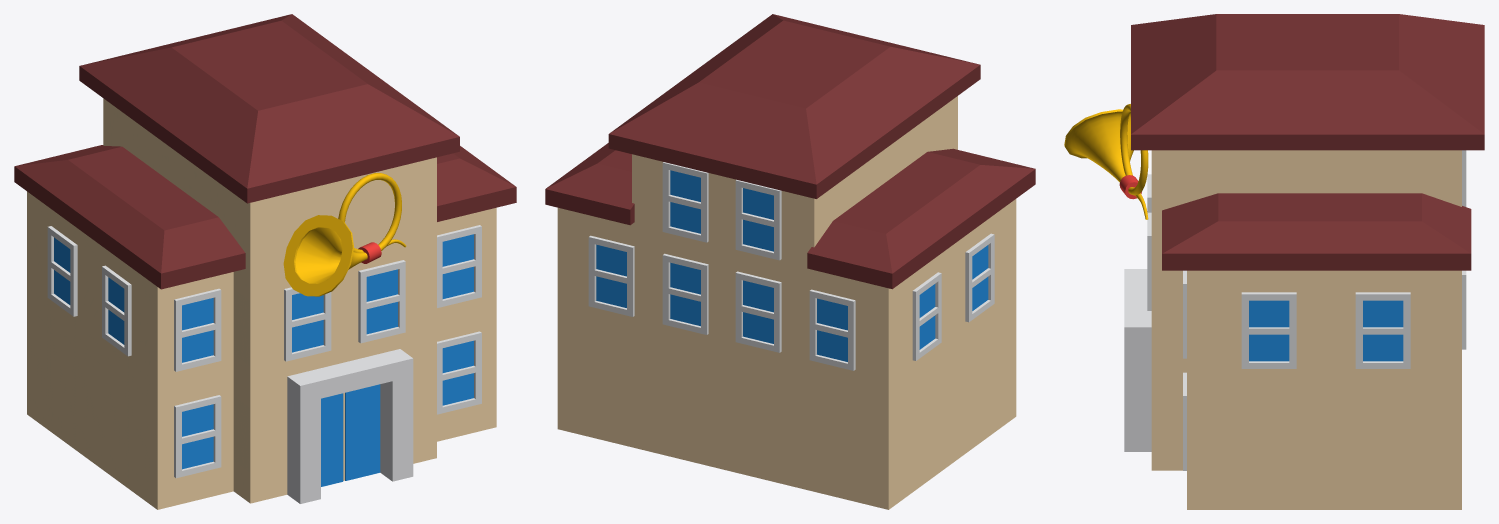
File: post_office.gltf
3 renders of one model, left to right at view 1: azimuth 30°, elevation 25°; view 2: azimuth 150°, elevation 25°; view 3: azimuth 270°, elevation 25°, orthographic. The views are drawn at different scales.
Visible parts, largest first — view 1: Cube.487; view 2: Cube.487; view 3: Cube.487.
Part boxes in pixels (x1,y1,x2,y2): Cube.487: (14, 14, 516, 509); Cube.487: (545, 14, 1035, 509); Cube.487: (1064, 14, 1484, 509).
Bounding box in the file's own units: 2.02 × 1.98 × 1.97.
1 material, 1 textured.
